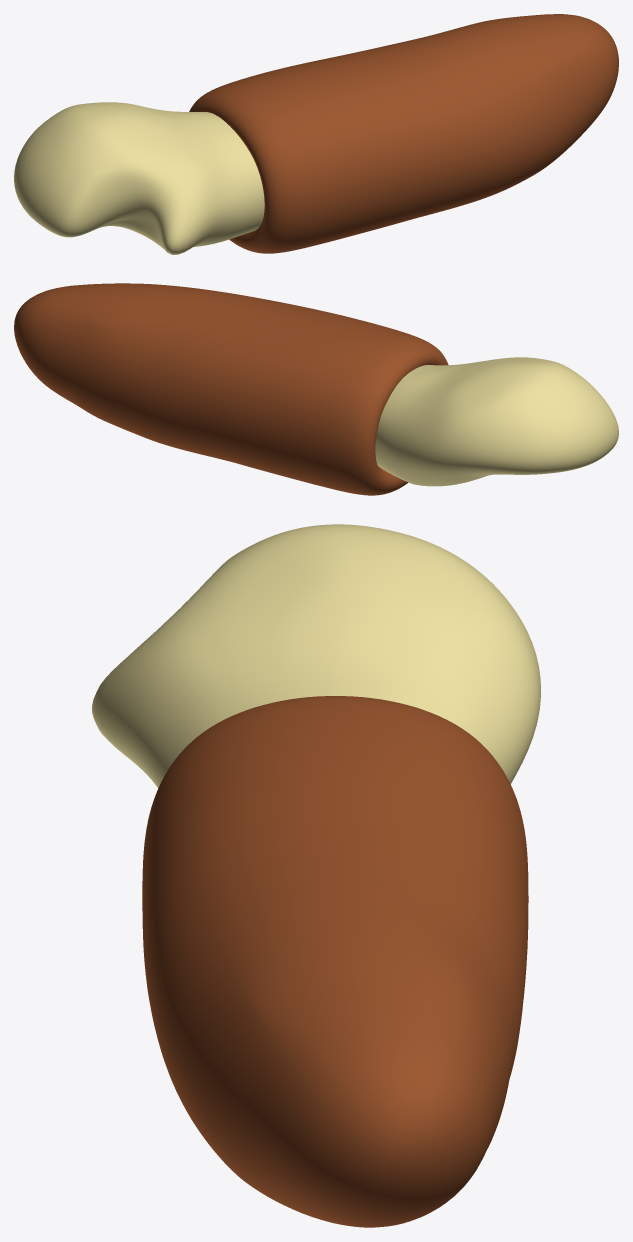
The model's file is BrazoDerecho.obj.
3 views of the same model, one above another, from view 1: azimuth 30°, elevation 25°; view 2: azimuth 150°, elevation 25°; view 3: azimuth 270°, elevation 25° (orthographic). The views are drawn at different scales.
Parts seen in each view (by area): view 1: BrazoDer, ManoDer; view 2: BrazoDer, ManoDer; view 3: BrazoDer, ManoDer.
Boxes of the visible parts, x1,y1,x2,y2 form: BrazoDer: [189, 14, 618, 253]; ManoDer: [14, 102, 264, 254]; BrazoDer: [14, 283, 448, 495]; ManoDer: [375, 357, 618, 486]; BrazoDer: [142, 696, 528, 1227]; ManoDer: [92, 524, 540, 787].
Bounding box in the file's own units: 1.53 × 0.3941 × 0.5219.
